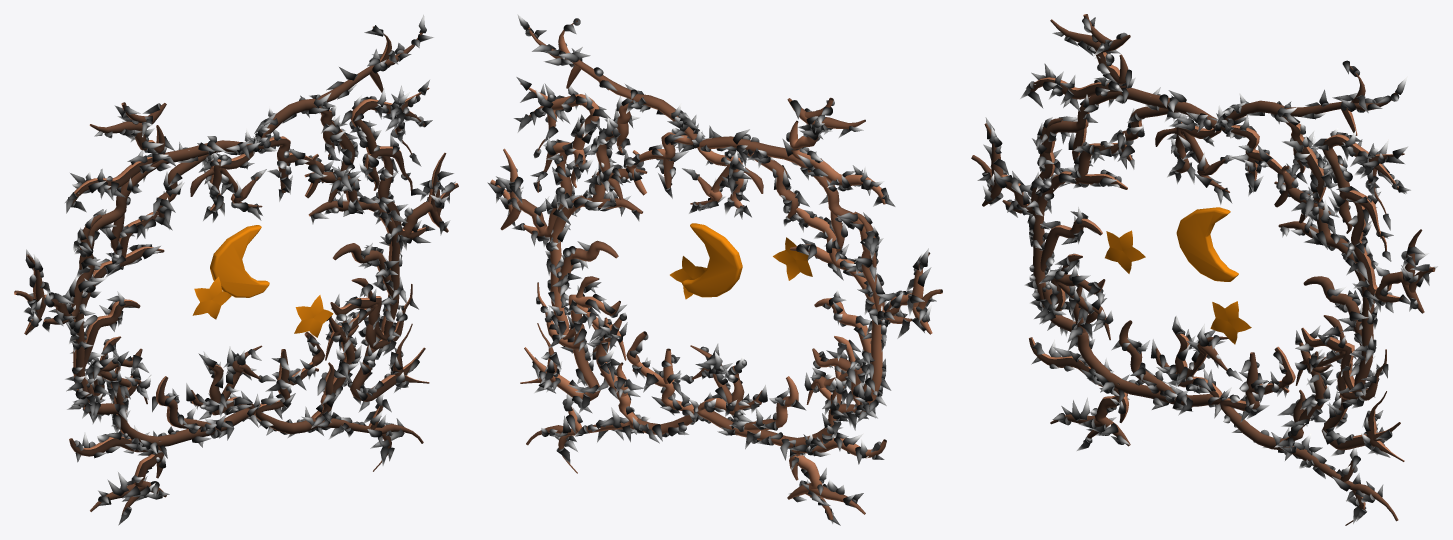
File: Blocker.fbx
3 renders of one model, left to right at view 1: azimuth 30°, elevation 25°; view 2: azimuth 150°, elevation 25°; view 3: azimuth 330°, elevation 25°, orthographic. The views are drawn at different scales.
Visible parts, largest first — view 1: Blocker, Blocker_Star; view 2: Blocker, Blocker_Star; view 3: Blocker, Blocker_Star.
Boxes of the visible parts, x1,y1,x2,y2 form: Blocker: (14,14,458,525); Blocker_Star: (192,225,333,337); Blocker: (487,14,942,525); Blocker_Star: (670,223,812,299); Blocker: (971,14,1437,525); Blocker_Star: (1105,207,1251,344).
Size of the model in its own units: 6.06 by 5.82 by 0.8787.
4 materials, 4 textured.
